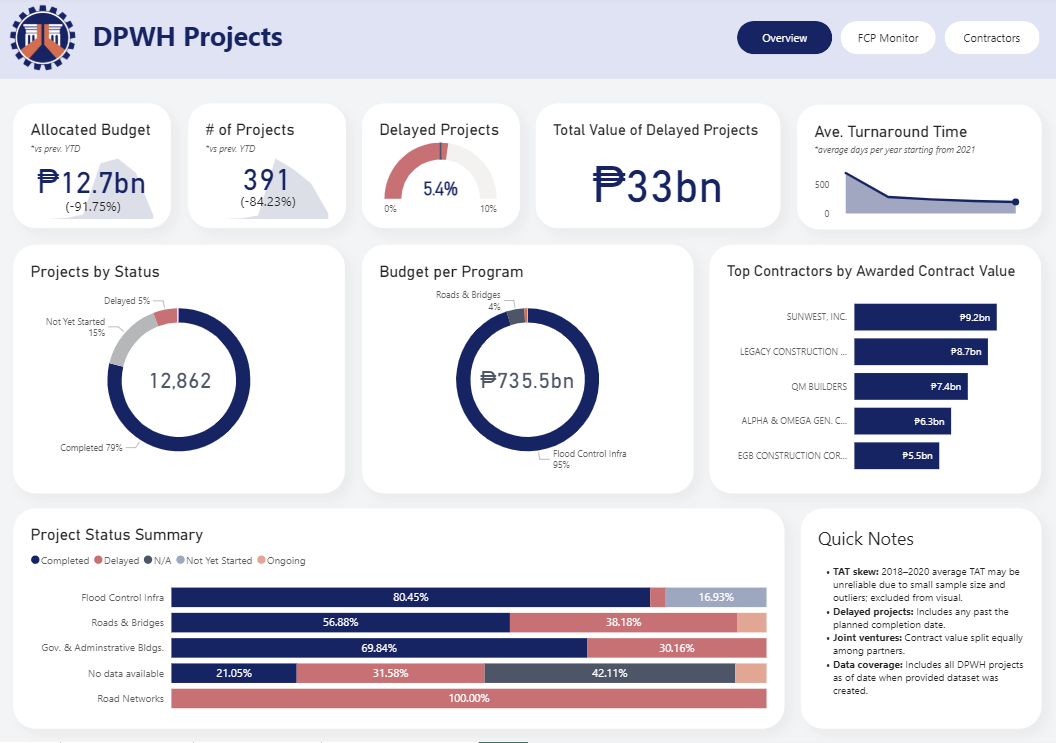

The page's visual inventory and layout, read from the dashboard file:
{"tool":"powerbi","page":{"name":"Overview","canvas":[1280,900],"ordinal":0},"visuals":[{"type":"shape","box":[0,0,1280,100],"z":0,"group":"g1"},{"type":"image","box":[0,0,110,100],"z":1000,"group":"g1"},{"type":"textbox","box":[110,21.4,258.6,55.7],"z":2000,"group":"g1"},{"type":"kpi","title":"Allocated Budget","fields":{"Goal":["M_Table.Measure"],"Indicator":["M_Table.Current Year Budget"],"TrendLine":["Date Table.Date Hierarchy.Year"]},"box":[20,130,190,150],"z":4000},{"type":"hundredPercentStackedBarChart","title":"Project Status Summary","fields":{"Series":["F_Projects.Status"],"Category":["F_Projects.Program Name"],"Y":["CountNonNull(F_Projects.Name)"]},"box":[20,618.3,930,265.4],"z":5000},{"type":"donutChart","title":"Budget per Program","fields":{"Category":["F_Projects.Program Name"],"Y":["M_Table.Contractor Award"]},"box":[440,300,400,300],"z":6000},{"type":"kpi","title":"# of Projects","fields":{"TrendLine":["Date Table.Date Hierarchy.Year"],"Indicator":["M_Table.Current YTD # of Projects"],"Goal":["M_Table.Last YTD # of Projects"]},"box":[230,130,190,150],"z":7000},{"type":"clusteredBarChart","title":"Top Contractors by Awarded Contract Value","fields":{"Category":["D_Contractors.ContractorName"],"Y":["M_Table.Contractor Award"]},"box":[860,300,400,300],"z":8000},{"type":"gauge","title":"Delayed Projects","fields":{"Y":["M_Table.% On-Time Rate"]},"box":[440,130,190,150],"z":9000},{"type":"card","fields":{"Values":["M_Table.Contractor Award"]},"box":[571.4,407.1,137.1,110],"z":10000},{"type":"lineChart","title":"Ave. Turnaround Time","fields":{"Category":["Date Table.Date Hierarchy.Year"],"Y":["M_Table.Turnaround Time - Days"]},"box":[965,130.6,295,150],"z":11000},{"type":"donutChart","title":"Projects by Status","fields":{"Category":["F_Projects.Status"],"Y":["M_Table.# of Projects"]},"box":[20,300,400,300],"z":12000},{"type":"card","title":"Total Value of Delayed Projects","fields":{"Values":["M_Table.Contractor Award"]},"box":[650,130,295,150],"z":13000},{"type":"card","fields":{"Values":["M_Table.# of Projects"]},"box":[164.3,407.1,112.9,110],"z":14000},{"type":"textbox","box":[970,618.3,290,265.4],"z":15000},{"type":"pageNavigator","box":[893.3,30,366.7,40],"z":16000,"group":"g1"},{"type":"group","id":"g1","title":"Header","box":[0,0,1280,100],"z":16001}]}

Visuals, with their boxes in screenshot pixels (x1, y1, x2, y2), scaled from the page's 1280x900 canvas onto the 1056x743 screenshot:
shape: <region>0, 0, 1055, 83</region>
image: <region>0, 0, 91, 83</region>
textbox: <region>91, 18, 304, 64</region>
"Allocated Budget" kpi: <region>16, 107, 173, 231</region>
"Project Status Summary" hundredPercentStackedBarChart: <region>16, 510, 784, 730</region>
"Budget per Program" donutChart: <region>363, 248, 693, 495</region>
"# of Projects" kpi: <region>190, 107, 346, 231</region>
"Top Contractors by Awarded Contract Value" clusteredBarChart: <region>710, 248, 1040, 495</region>
"Delayed Projects" gauge: <region>363, 107, 520, 231</region>
card - M_Table.Contractor Award: <region>471, 336, 585, 427</region>
"Ave. Turnaround Time" lineChart: <region>796, 108, 1040, 232</region>
"Projects by Status" donutChart: <region>16, 248, 346, 495</region>
"Total Value of Delayed Projects" card: <region>536, 107, 780, 231</region>
card - M_Table.# of Projects: <region>136, 336, 229, 427</region>
textbox: <region>800, 510, 1040, 730</region>
pageNavigator: <region>737, 25, 1040, 58</region>
"Header" group: <region>0, 0, 1055, 83</region>
